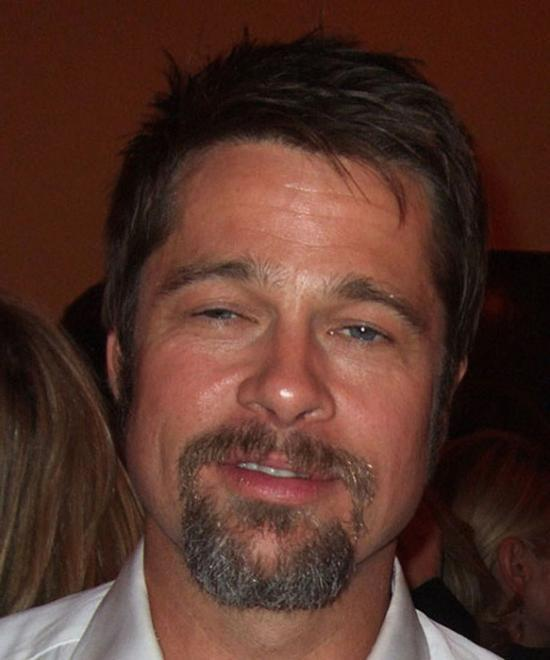Drunk: (142, 157, 432, 553)
